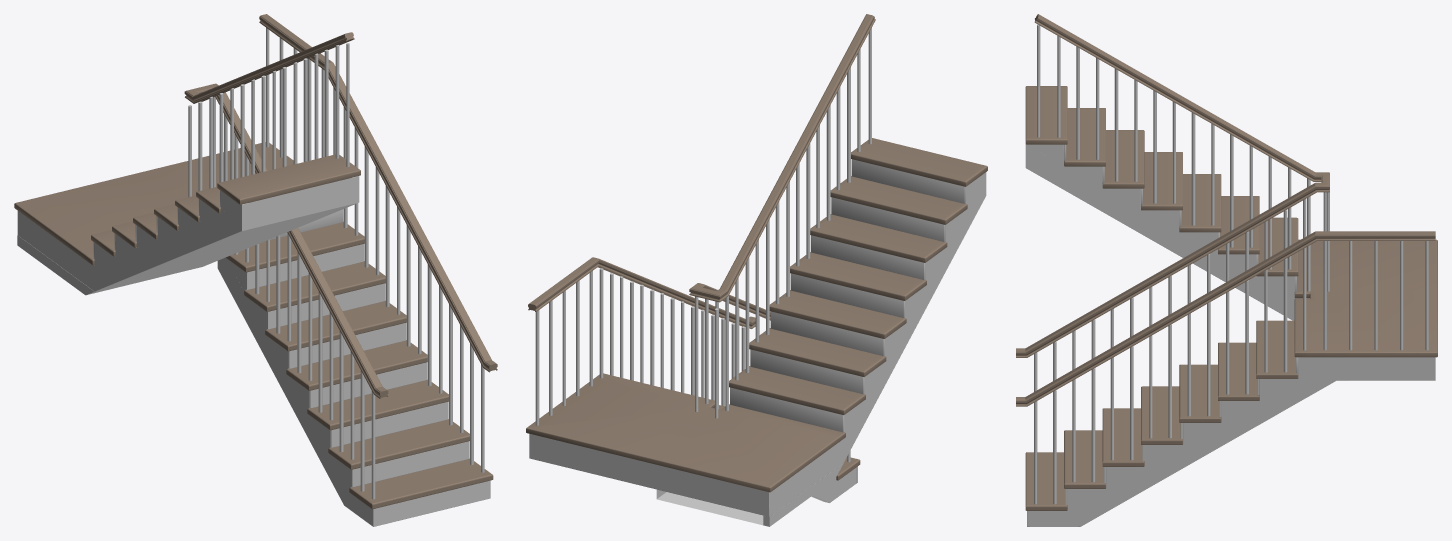
File: steel-stairs-lite.glb
3 views of the same model, side by side, from view 1: azimuth 30°, elevation 25°; view 2: azimuth 150°, elevation 25°; view 3: azimuth 270°, elevation 25° (orthographic). The views are drawn at different scales.
Visible parts, largest first — view 1: Geom3D (×16), Geom3D_; view 2: Geom3D (×11), Geom3D_; view 3: Geom3D (×10).
Boxes of the visible parts, x1,y1,x2,y2 form: Geom3D (×16): (14, 14, 497, 526); Geom3D_: (17, 177, 352, 295); Geom3D (×11): (526, 14, 987, 516); Geom3D_: (656, 463, 843, 526); Geom3D (×10): (1016, 14, 1437, 526).
Bounding box in the file's own units: 1.86 × 3.45 × 2.93.
